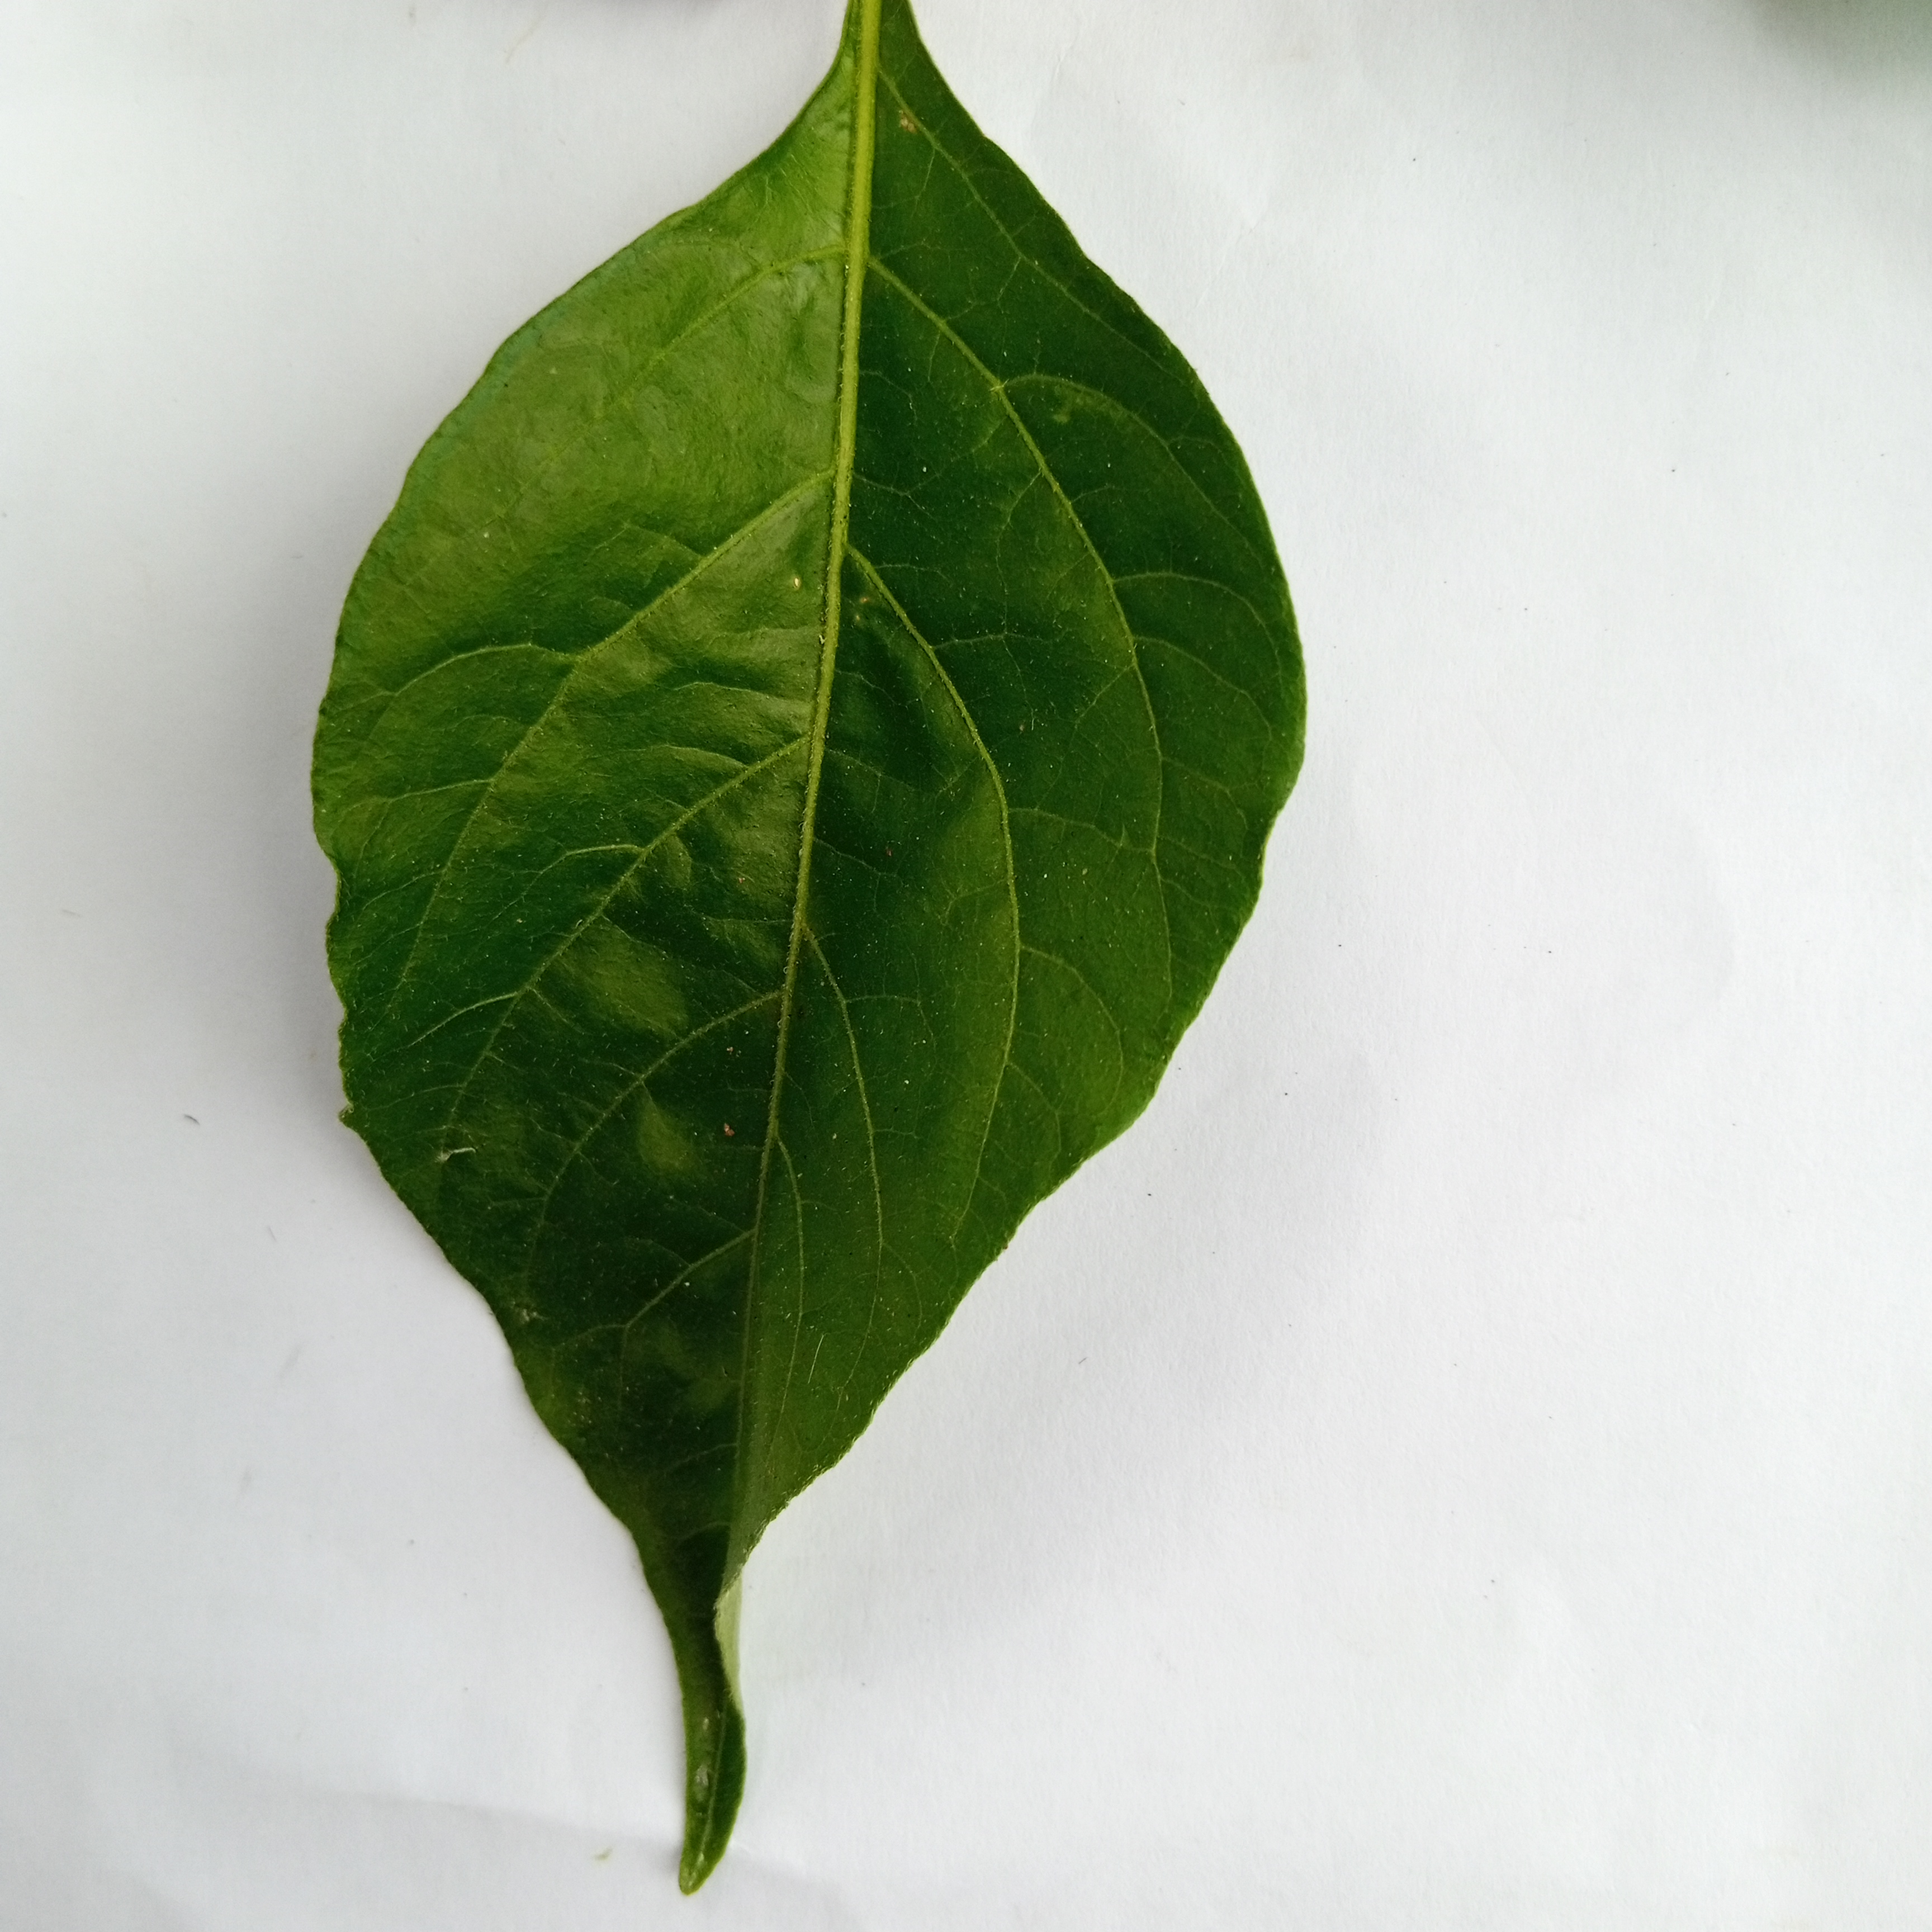Leaf: (184, 16, 1369, 1932)
